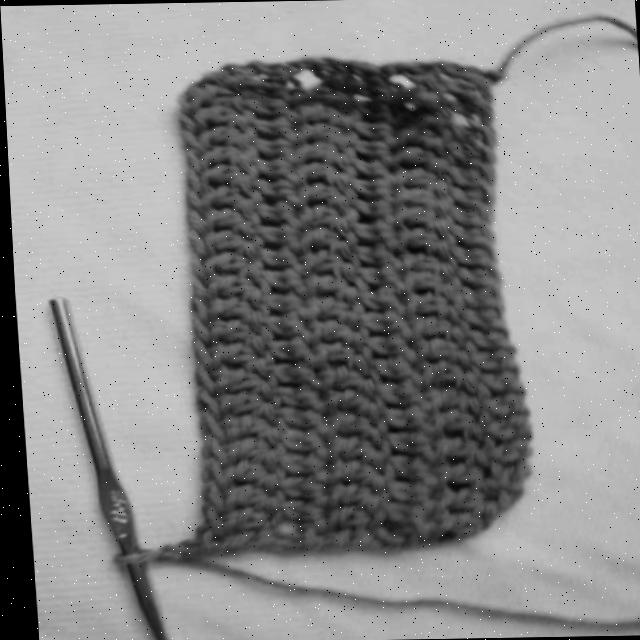ch: (199, 471, 220, 514), (198, 435, 223, 469), (194, 387, 217, 421), (200, 458, 224, 490), (191, 339, 211, 373), (186, 207, 206, 241), (191, 313, 208, 352), (198, 411, 220, 441), (183, 139, 200, 177), (195, 363, 213, 398), (199, 501, 216, 533), (187, 275, 206, 303), (185, 192, 206, 217), (179, 127, 199, 152), (190, 298, 206, 327), (187, 228, 201, 260), (188, 172, 201, 200), (180, 95, 194, 121), (191, 524, 204, 551), (181, 114, 196, 136), (190, 253, 202, 279)
dc: (314, 386, 379, 423), (438, 77, 489, 121), (207, 301, 272, 335), (265, 310, 335, 341), (208, 318, 267, 354), (322, 436, 384, 469), (444, 230, 495, 269), (440, 489, 500, 522), (322, 417, 383, 449), (216, 340, 271, 375), (272, 475, 325, 511), (276, 426, 326, 464), (436, 194, 488, 230), (218, 439, 283, 467), (258, 90, 313, 123), (384, 455, 444, 485), (357, 286, 415, 317), (379, 498, 435, 530), (404, 293, 458, 326), (381, 407, 438, 438), (374, 381, 434, 410), (274, 452, 325, 486), (326, 365, 374, 400), (382, 480, 442, 508), (364, 333, 416, 365), (348, 197, 400, 229), (350, 137, 403, 168), (434, 411, 482, 445), (221, 415, 277, 444), (299, 229, 355, 258), (274, 499, 319, 535), (325, 341, 370, 377), (381, 431, 441, 458), (444, 218, 493, 251), (256, 201, 318, 227), (266, 337, 328, 363), (196, 123, 257, 149), (218, 394, 276, 421), (261, 291, 329, 314), (204, 209, 256, 239), (319, 527, 401, 546), (255, 525, 317, 550), (358, 306, 408, 337), (222, 486, 279, 513), (205, 276, 258, 305), (195, 105, 254, 131), (434, 436, 485, 466), (205, 231, 261, 258), (305, 80, 368, 104), (398, 252, 456, 278), (414, 339, 466, 368), (212, 368, 272, 393), (267, 364, 327, 389), (305, 204, 355, 234), (402, 230, 452, 260), (253, 223, 315, 247), (298, 253, 355, 279), (224, 460, 273, 490), (312, 298, 360, 328), (406, 317, 461, 343), (253, 175, 304, 203), (273, 407, 324, 435), (443, 116, 489, 147), (216, 509, 273, 534), (349, 179, 406, 204), (255, 116, 304, 145), (318, 321, 367, 350), (441, 463, 490, 492), (462, 340, 511, 369), (402, 272, 454, 299), (301, 273, 357, 298), (204, 253, 262, 277), (203, 87, 261, 111), (306, 104, 364, 128), (203, 188, 256, 214), (199, 147, 256, 171), (299, 139, 351, 165), (271, 385, 321, 412), (300, 160, 351, 186), (479, 460, 523, 490), (355, 263, 403, 290), (405, 89, 453, 116), (429, 387, 477, 414), (439, 165, 490, 190), (355, 244, 404, 270), (301, 124, 354, 148), (450, 281, 500, 306), (202, 167, 254, 191), (353, 161, 405, 185), (363, 76, 411, 102), (425, 363, 471, 390), (479, 436, 525, 463), (326, 487, 382, 509), (392, 202, 439, 228), (203, 532, 263, 552), (367, 358, 419, 381), (396, 169, 448, 192), (392, 149, 446, 171), (469, 367, 518, 391), (476, 391, 523, 416), (253, 137, 304, 160), (326, 465, 381, 486), (323, 508, 380, 528), (478, 417, 527, 440), (351, 221, 396, 246), (400, 114, 451, 136), (256, 156, 304, 179), (452, 263, 498, 287), (260, 270, 304, 295), (395, 185, 437, 211), (352, 122, 399, 145), (445, 185, 490, 209), (454, 305, 503, 327), (461, 324, 504, 349), (354, 104, 400, 127), (256, 247, 301, 270), (442, 143, 487, 166), (303, 183, 346, 207), (365, 98, 418, 117), (441, 514, 484, 537), (400, 128, 443, 149)
